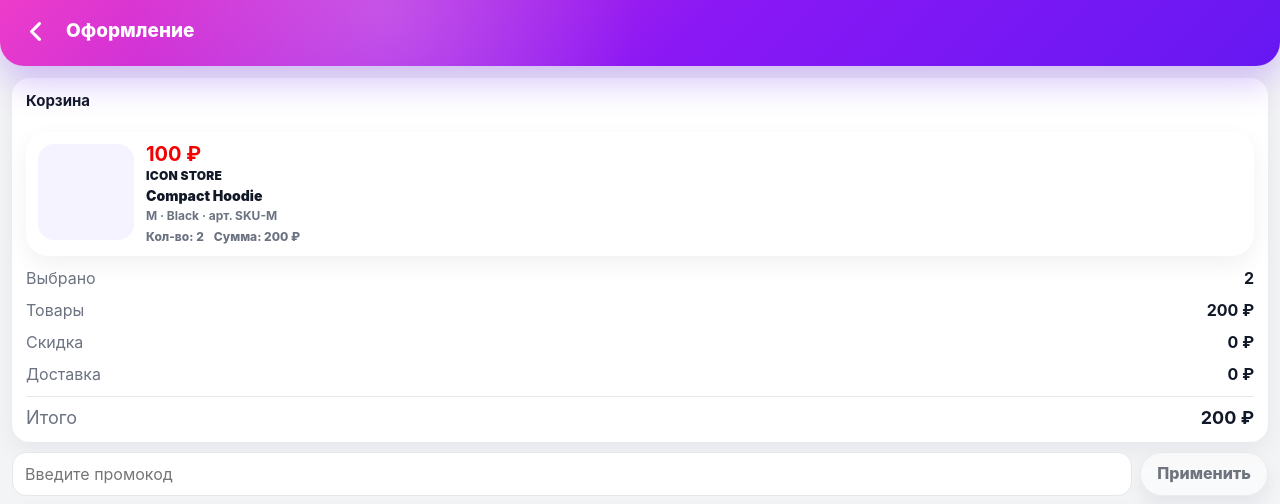
it: CheckoutPage item details › shows promo discount before adding delivery to the final total
Type "save50" into the field with placeholder "Введите промокод". click: (572,474)
box: [12,452,1132,496]
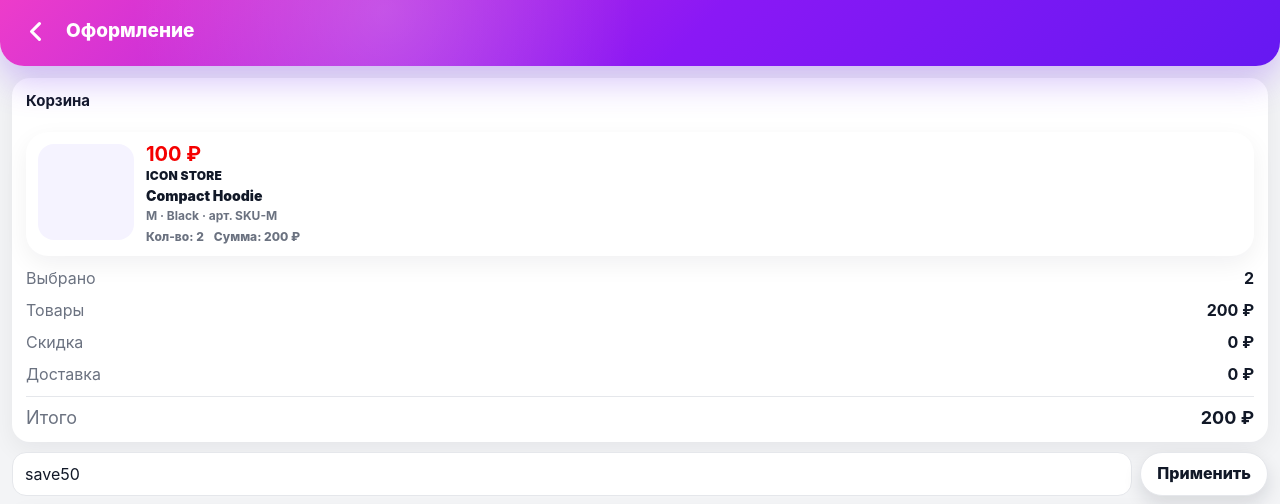
Click the button "Применить". click: (1204,474)
box: [1140,452,1268,496]
(page scrolled)
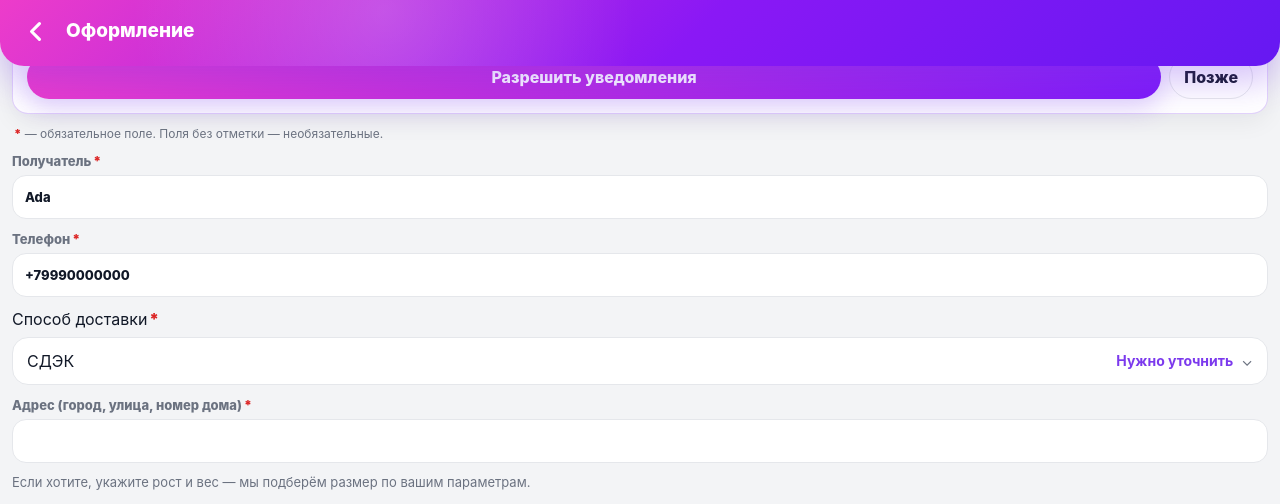
Click the button "СДЭК Нужно уточнить ⌄". click: (51,361)
box: [12,337,1268,385]
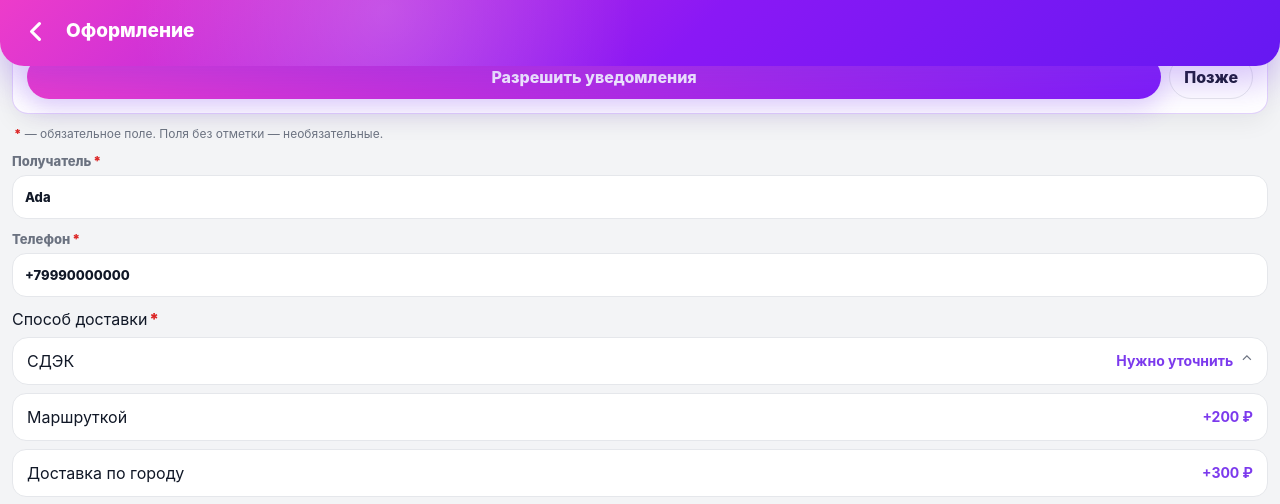
Click the radio button labelled "Маршруткой +200 ₽". click: (77,417)
box: [12,393,1268,441]
(page scrolled)
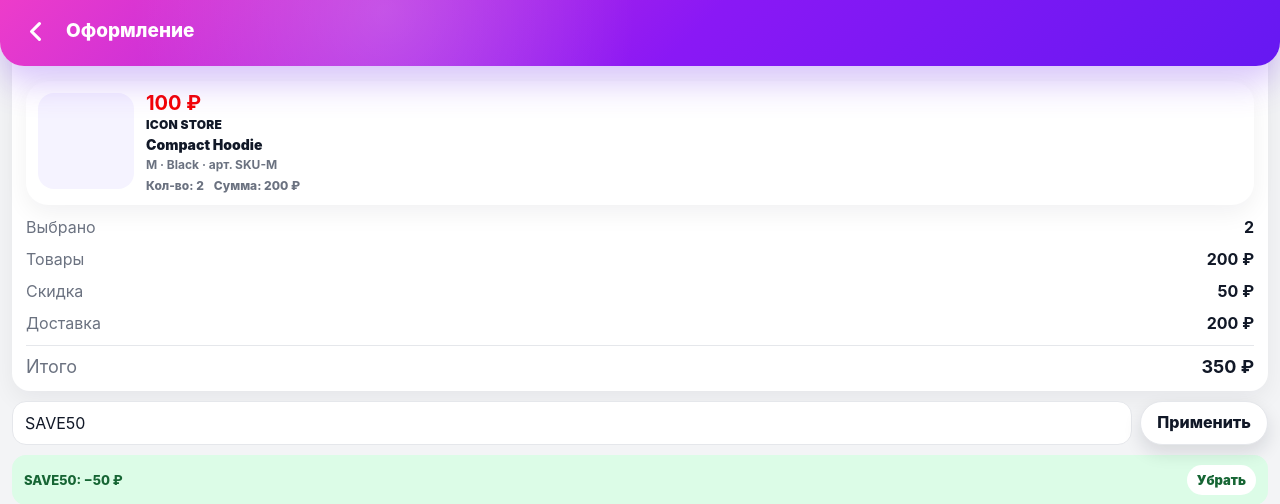
Now the text "Скидка" shows "50", box [1218,281,1254,301]
Now the text "Доставка" shows "200", box [1207,313,1254,333]
Now the text "Итого" shows "350", box [1201,356,1254,377]
